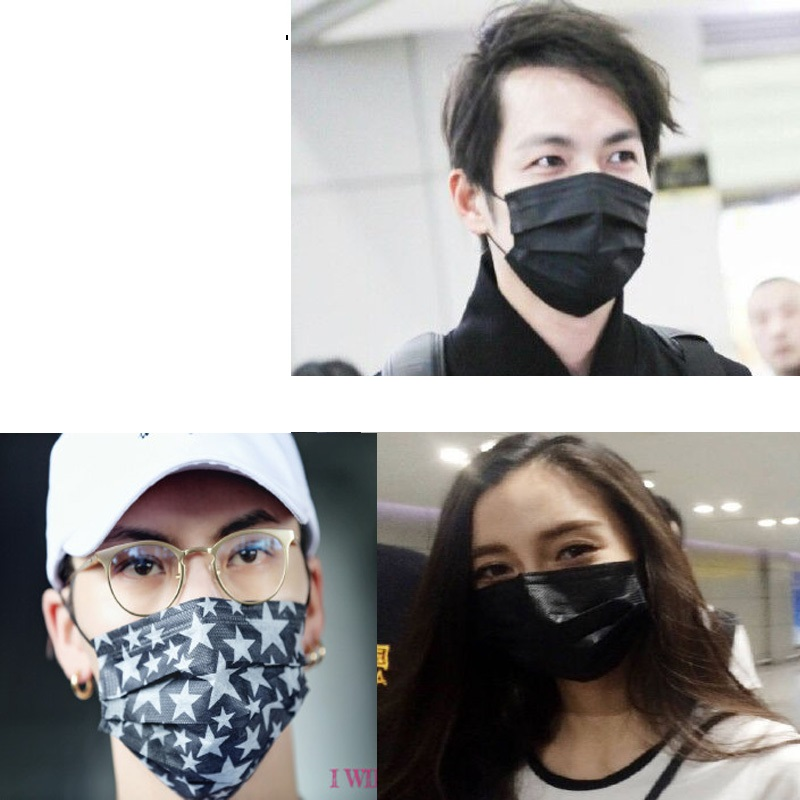face_mask: (92, 508, 301, 792), (464, 469, 639, 682), (501, 65, 650, 313), (751, 289, 799, 367)
